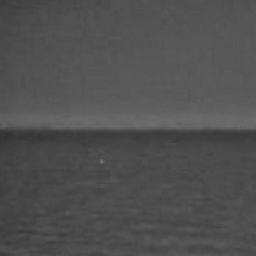Target: (97, 157, 105, 164)
